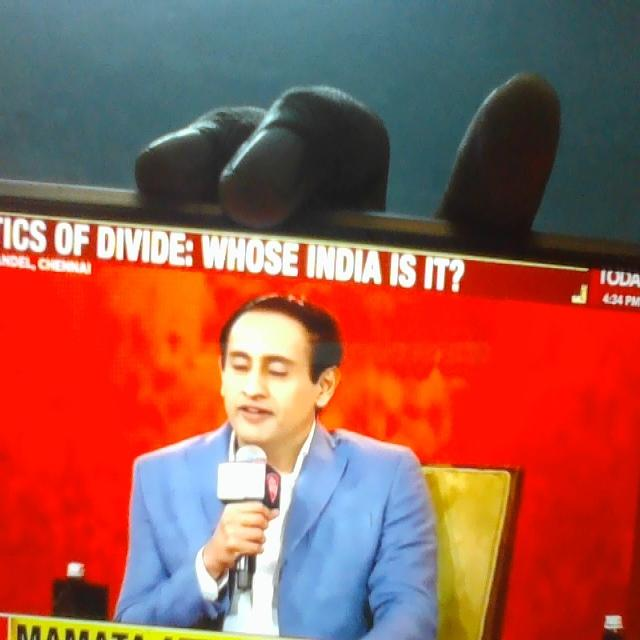fake: (225, 264, 328, 459)
